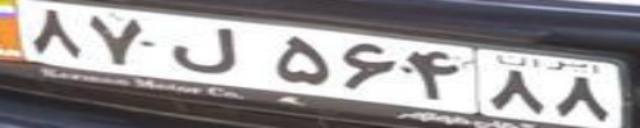4: (405, 49, 460, 100)
5: (274, 35, 329, 85)
6: (339, 41, 395, 89)
7: (87, 15, 144, 64)
8: (486, 69, 545, 113), (29, 9, 81, 58), (555, 77, 606, 121)
lam: (171, 27, 237, 75)
